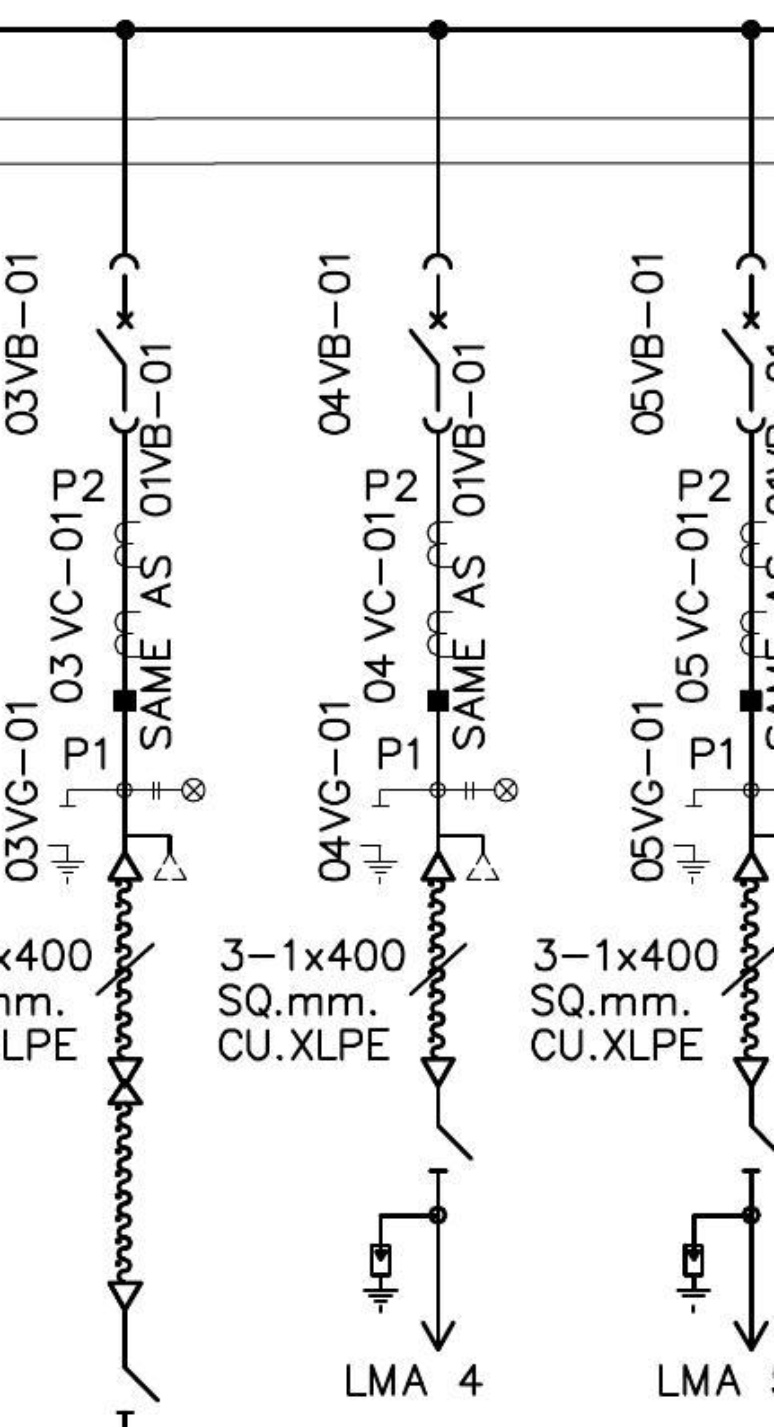22_breaker: (93, 251, 142, 436), (406, 252, 455, 436), (720, 251, 768, 436)
22_ds_la_out: (361, 1123, 474, 1354)
22_gs: (358, 802, 400, 884), (45, 802, 86, 884), (670, 802, 710, 884)
22_ll: (463, 776, 520, 803), (151, 776, 207, 803)
terminator_single: (418, 1054, 458, 1088), (105, 1278, 146, 1311), (731, 1055, 771, 1088)
terminator_splicing_kits: (106, 1056, 144, 1106)
terminator_w_future: (419, 830, 504, 883), (106, 831, 190, 884)
